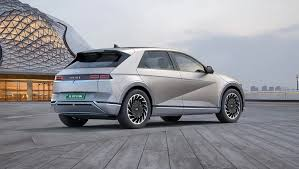Honda Ioniq: (52, 42, 247, 131)
